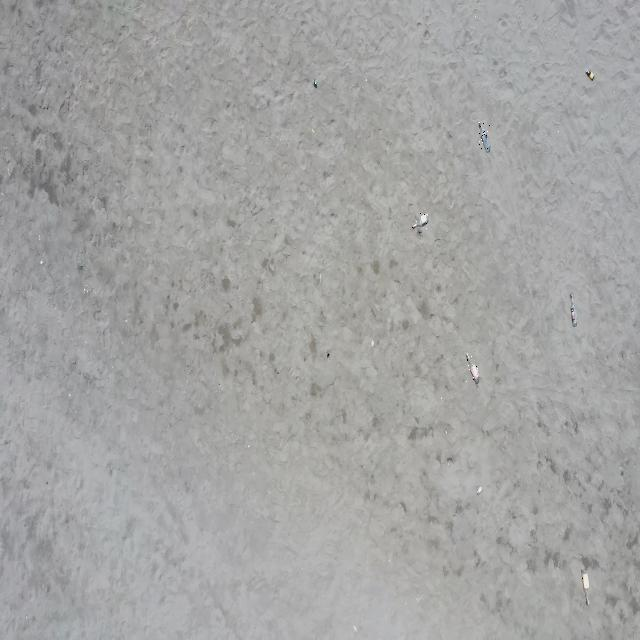glass: (466, 352, 480, 383), (479, 120, 490, 150), (570, 292, 579, 324), (582, 570, 590, 605), (412, 212, 428, 229), (586, 69, 594, 79), (478, 486, 486, 495), (313, 79, 318, 87)
